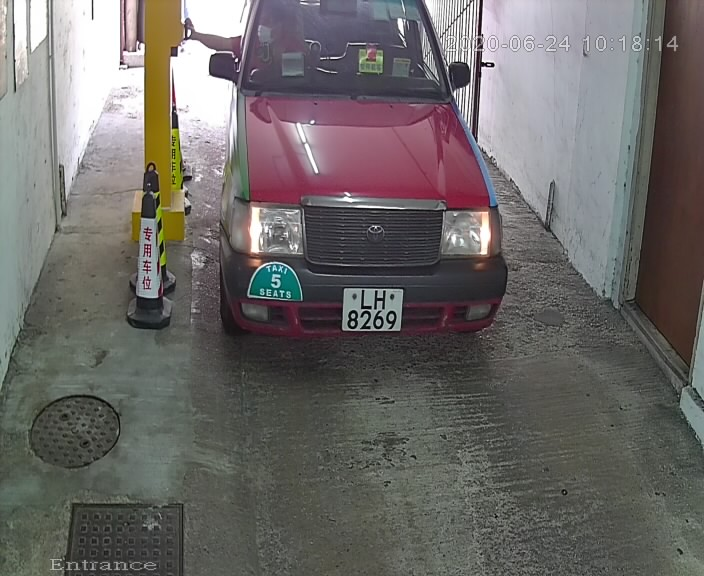Car: (196, 1, 520, 364)
License Plate: (338, 282, 413, 339)
